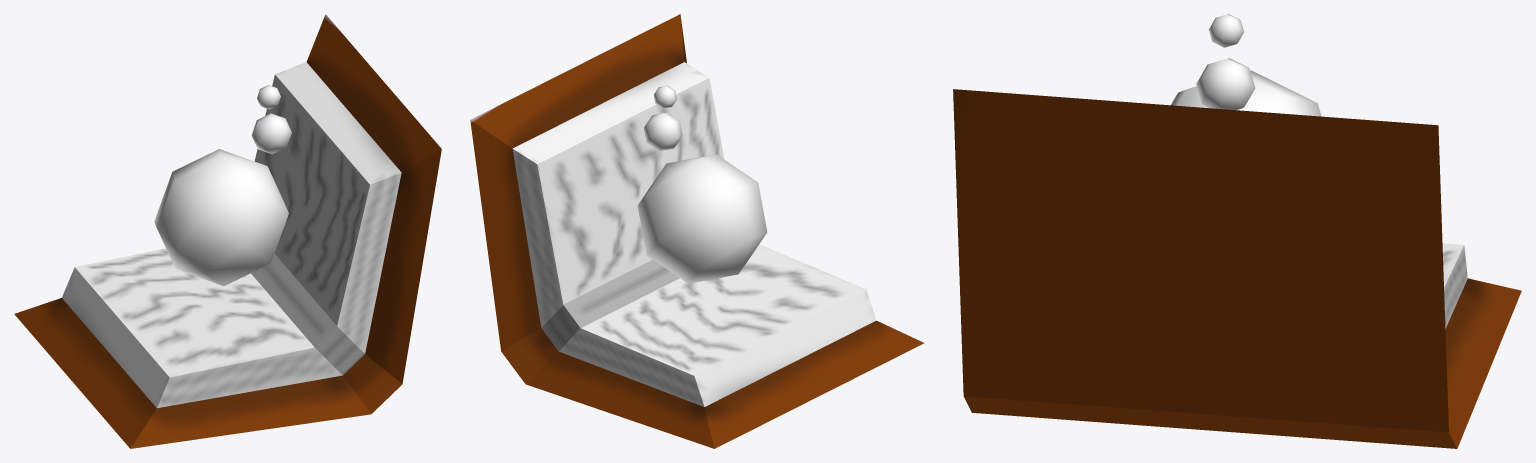
Rendered from gemtome.fbx.
3 views of the same model, side by side, from view 1: azimuth 30°, elevation 25°; view 2: azimuth 150°, elevation 25°; view 3: azimuth 270°, elevation 25° (orthographic). The views are drawn at different scales.
Parts seen in each view (by area): view 1: COLOR2, COLOR1; view 2: COLOR2, COLOR1; view 3: COLOR2, COLOR1.
Boxes of the visible parts, <box> form: COLOR2: <box>14,14,441,448</box>; COLOR1: <box>154,85,291,286</box>; COLOR2: <box>470,14,924,448</box>; COLOR1: <box>637,85,767,283</box>; COLOR2: <box>953,89,1521,448</box>; COLOR1: <box>1171,14,1321,116</box>.
Size of the model in its own units: 187 by 143 by 190.
1 material, 1 textured.
